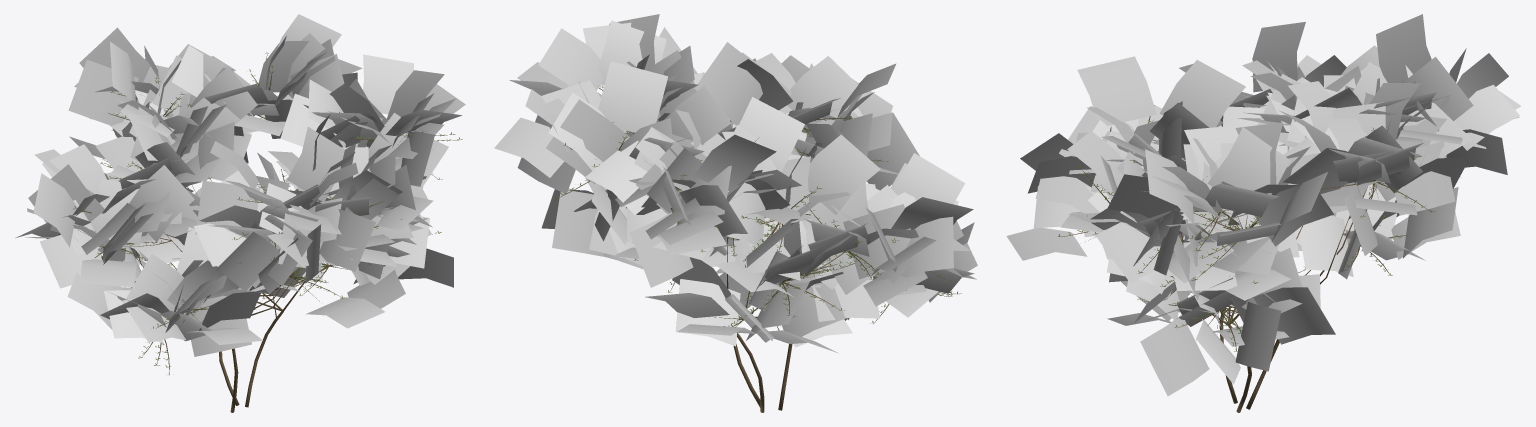
The model's file is Bruyere_Etale_LOD0.fbx.
3 views of the same model, side by side, from view 1: azimuth 30°, elevation 25°; view 2: azimuth 150°, elevation 25°; view 3: azimuth 270°, elevation 25° (orthographic). The views are drawn at different scales.
Parts seen in each view (by area): view 1: Bruyere_Etale; view 2: Bruyere_Etale; view 3: Bruyere_Etale.
Part boxes in pixels (box(x1,y1,x2,y2)): Bruyere_Etale: box(15, 14, 465, 412); Bruyere_Etale: box(494, 14, 977, 412); Bruyere_Etale: box(1006, 14, 1521, 412).
Bounding box in the file's own units: 341 × 252 × 321.
